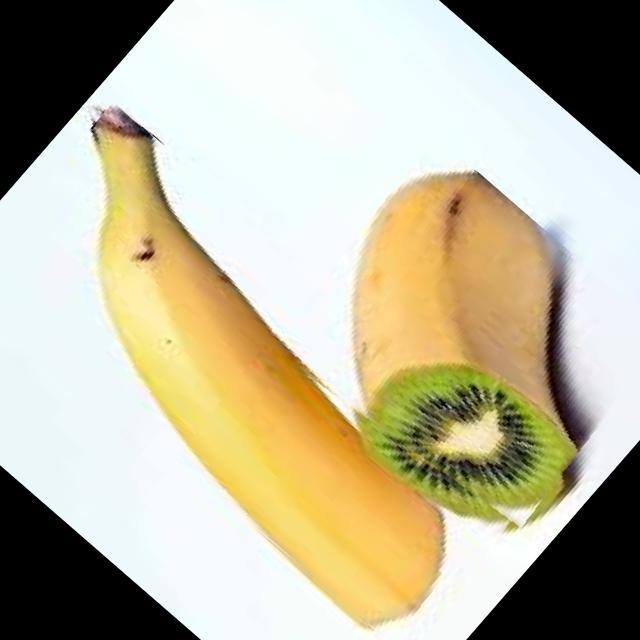Organic: (0, 101, 555, 640), (261, 137, 640, 550)
